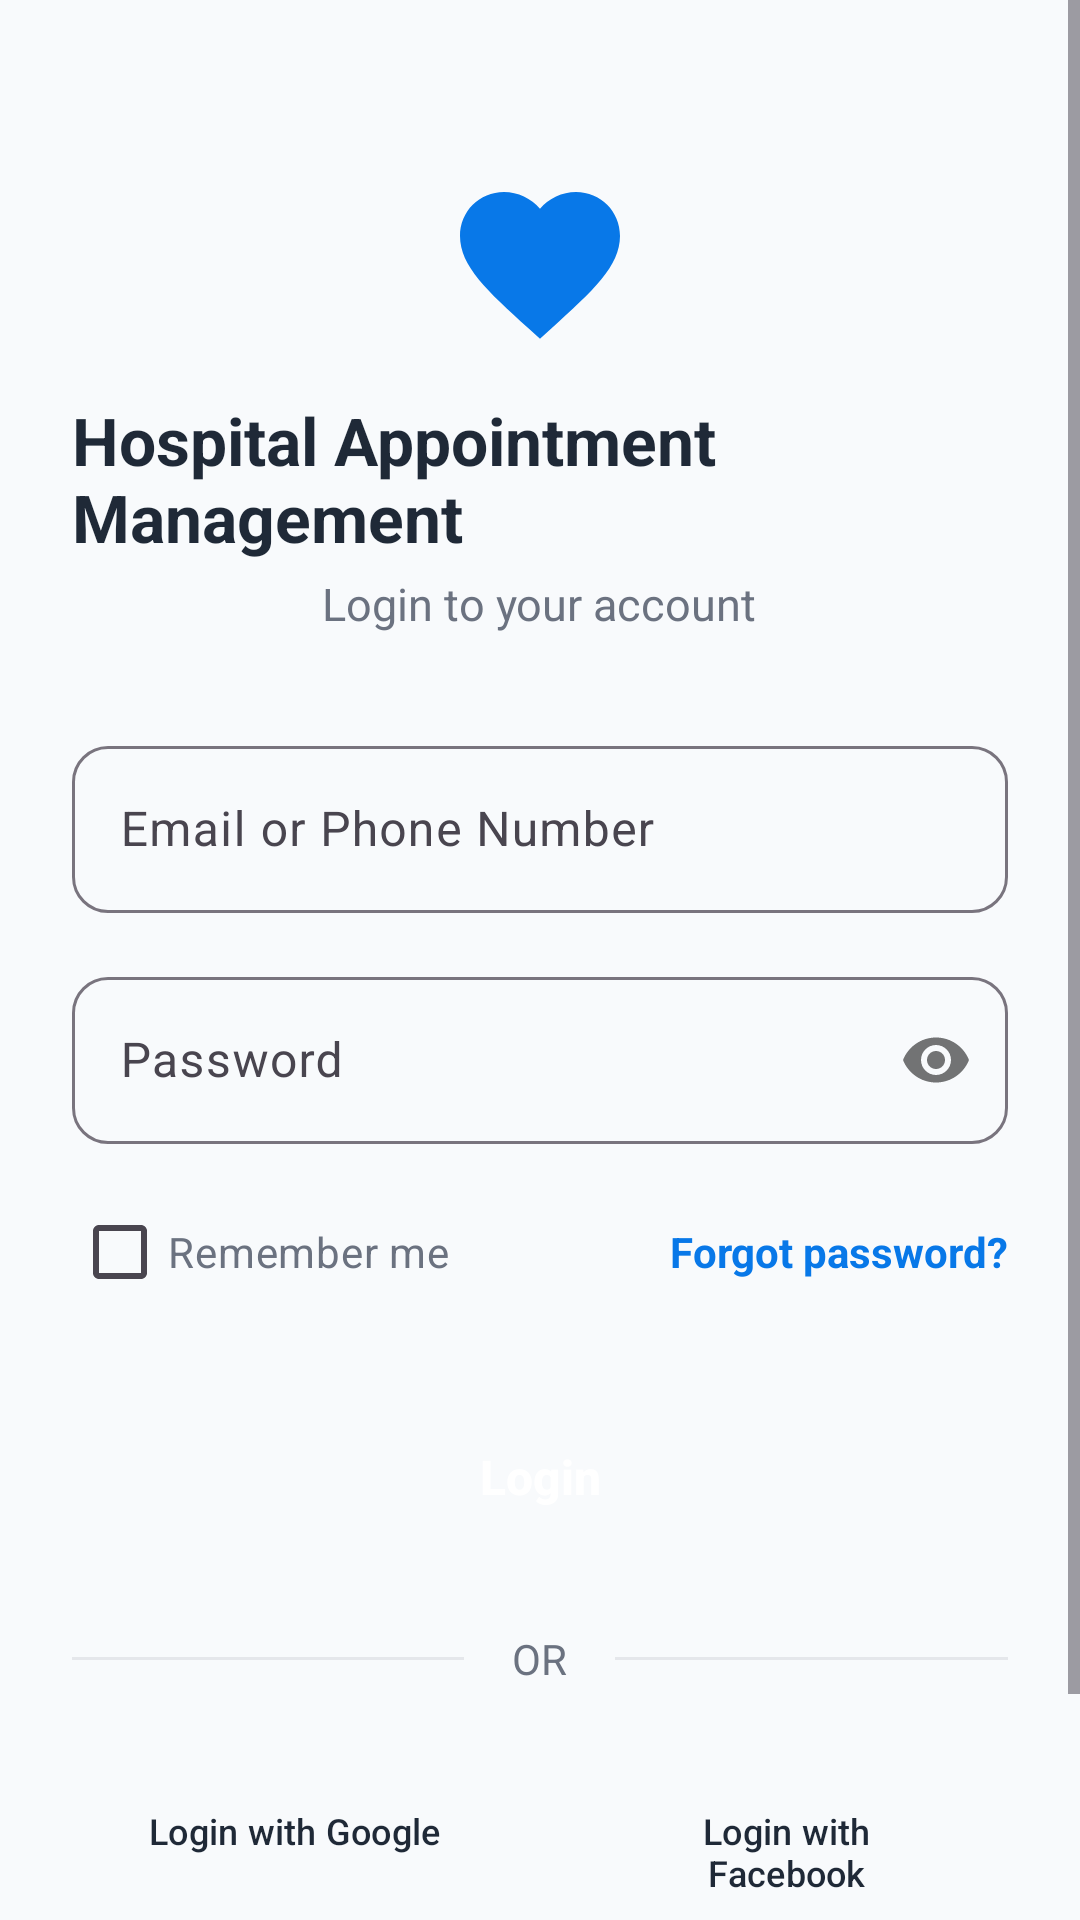

Screen size 1080×1920. Icon name, then its box in pixels as (x1, y1, x2, y2):
heart medical: (460, 192, 620, 339)
